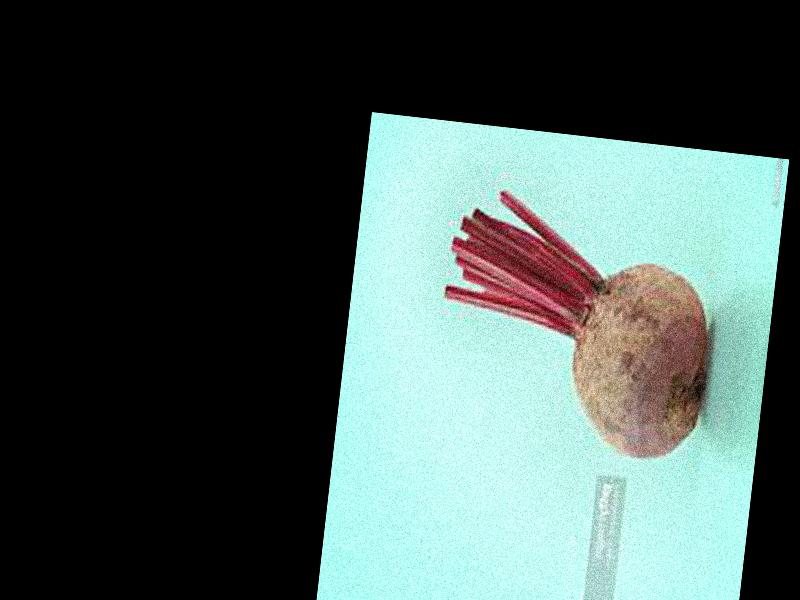Beet: (427, 187, 724, 464)
